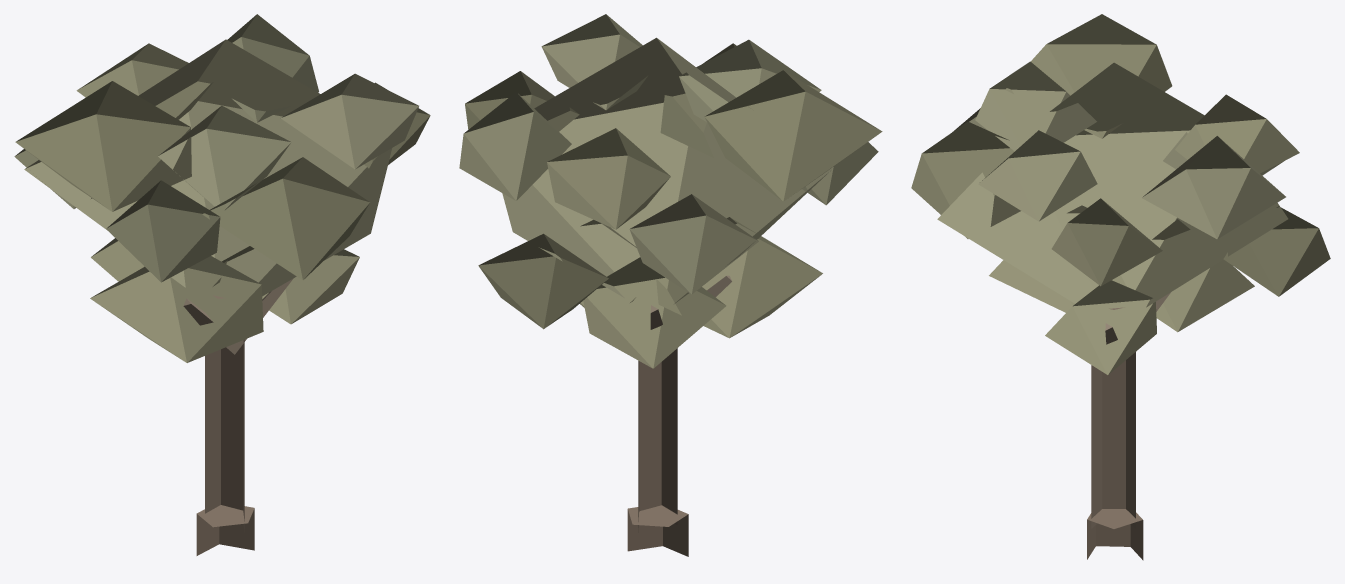
The model's file is tree.sub.camphor__winter.glb.
3 renders of one model, left to right at view 1: azimuth 30°, elevation 25°; view 2: azimuth 150°, elevation 25°; view 3: azimuth 270°, elevation 25°, orthographic. The views are drawn at different scales.
Parts seen in each view (by area): view 1: tree.sub.camphor__winter; view 2: tree.sub.camphor__winter; view 3: tree.sub.camphor__winter.
Part boxes in pixels (x1,y1,x2,y2): tree.sub.camphor__winter: [14, 14, 430, 555]; tree.sub.camphor__winter: [459, 14, 882, 556]; tree.sub.camphor__winter: [911, 14, 1330, 560].
Size of the model in its own units: 13.65 by 17.47 by 13.44.
